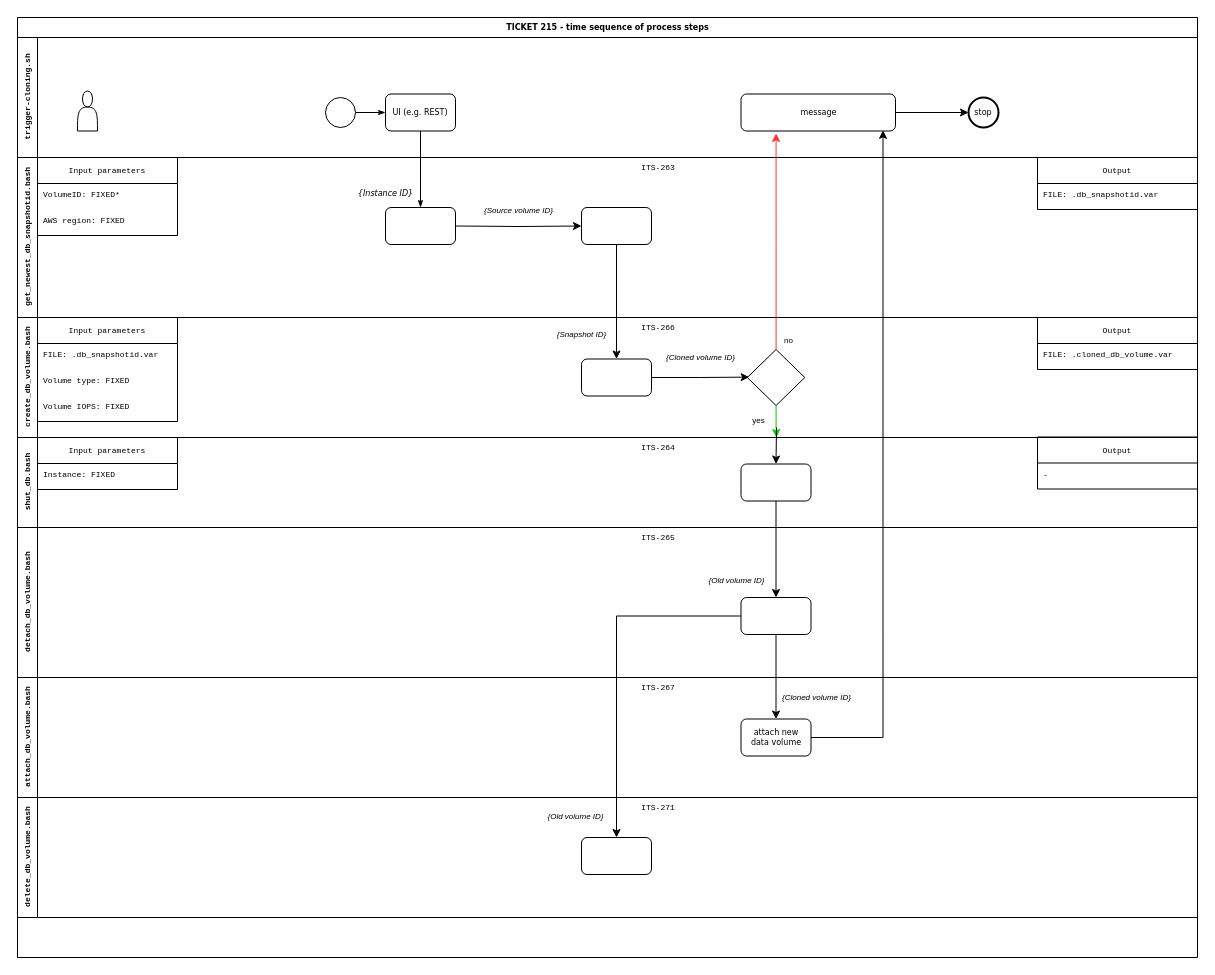
This 1215x975 diagram has some shape labels left out. The centre of each missing label's shape, as x and y in pixels:
"create new data volume" belongs at pixel 616 377.
"created?" belongs at pixel 775 377.
"delete detached" belongs at pixel 616 855.
"detach volume" belongs at pixel 775 615.
"filter the latest snapshot" belongs at pixel 616 225.
"PROD xor TEST" belongs at pixel 340 112.
"select the data volume" belongs at pixel 420 225.
"shutdown vm" belongs at pixel 775 482.
"triggers manually" belongs at pixel 87 110.
